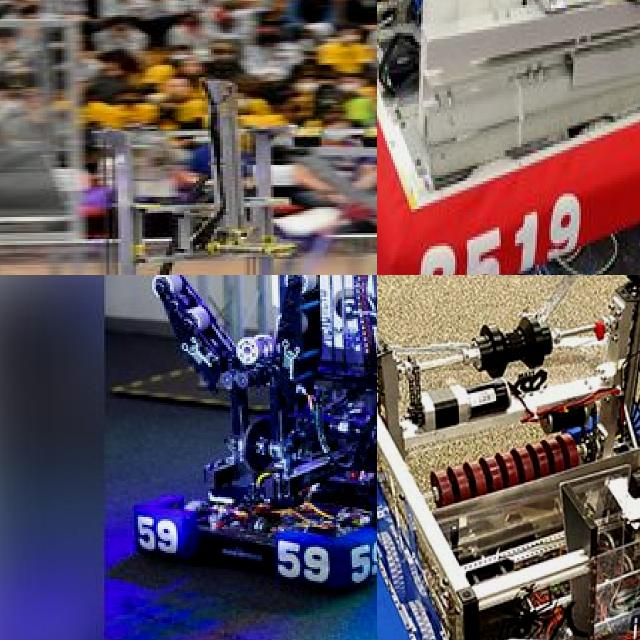FRC-Robots: (65, 275, 377, 587), (377, 275, 640, 640), (31, 66, 377, 275), (377, 0, 640, 255), (217, 197, 377, 275)
